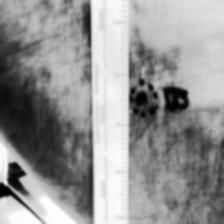Potentially Malignant Skin Tumors: (134, 88, 150, 110)
